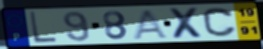8: (103, 10, 130, 41)
9: (61, 10, 92, 43)
A: (132, 8, 171, 39)
C: (201, 7, 239, 38)
L: (28, 11, 59, 45)
X: (167, 7, 207, 40)
